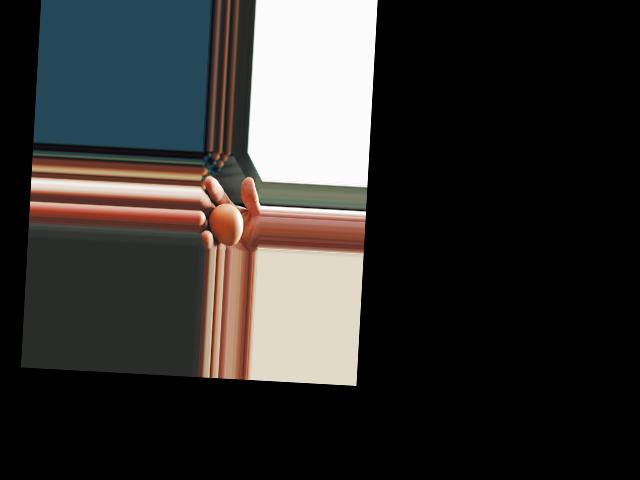egg: (206, 202, 244, 247)
